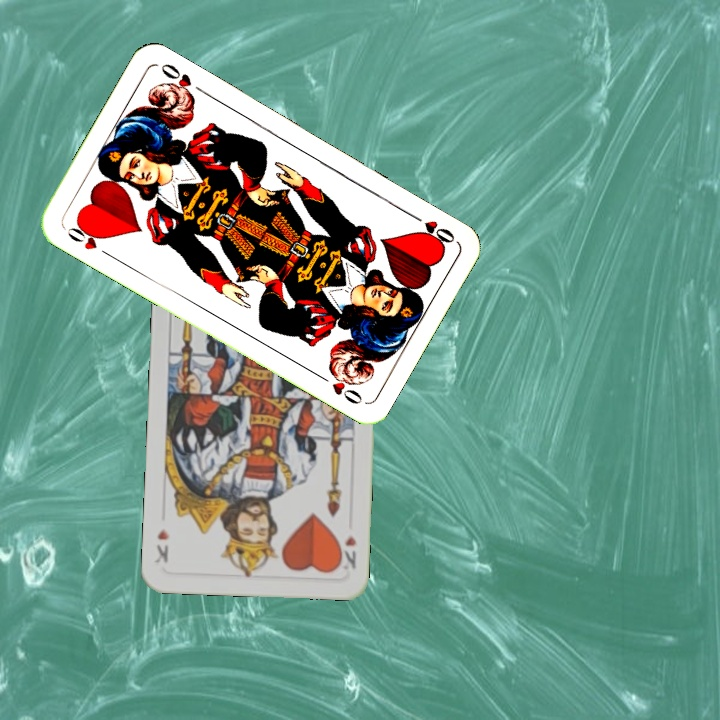HK: (334, 531, 359, 572)
HO: (60, 218, 114, 260), (404, 209, 458, 247)
